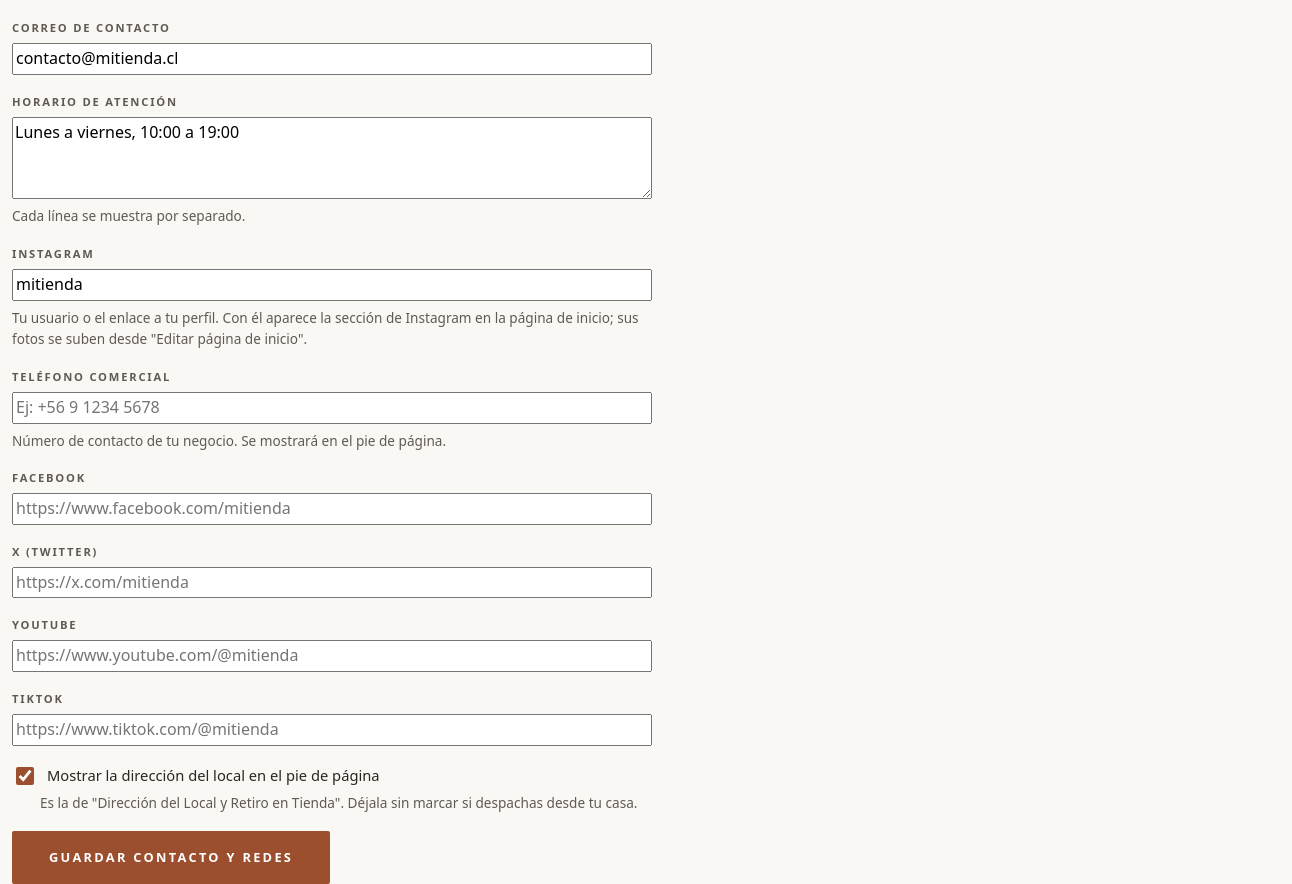
Test: GestorContacto › debe mostrar el mensaje de éxito después de guardar
The image size is (1292, 884).
(page scrolled)
Click the button "Guardar contacto y redes".
click(171, 858)  # box x1=12 y1=831 x2=330 y2=883
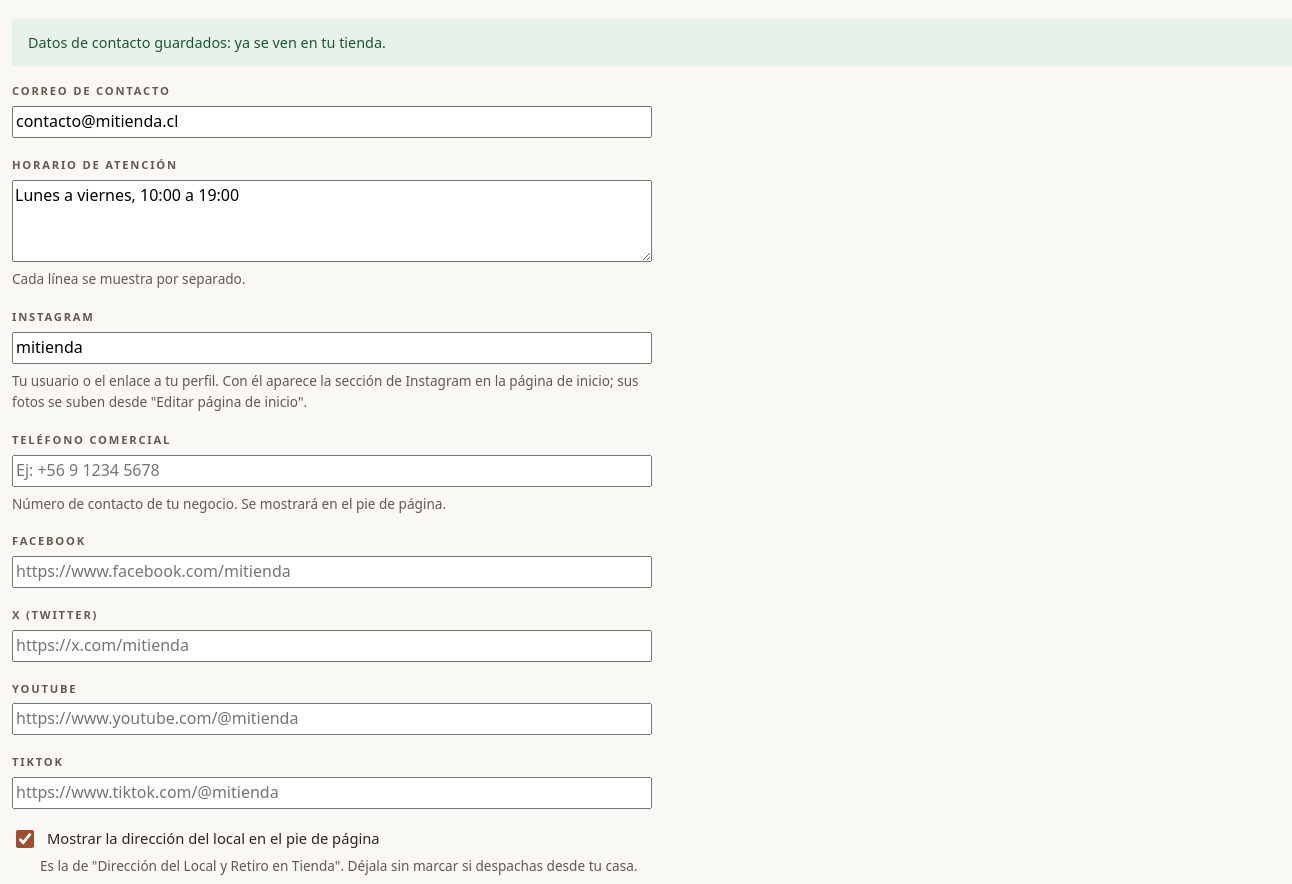
Result: the message reads "Datos de contacto guardados: ya se ven en tu tienda." at x1=28 y1=33 x2=386 y2=52
